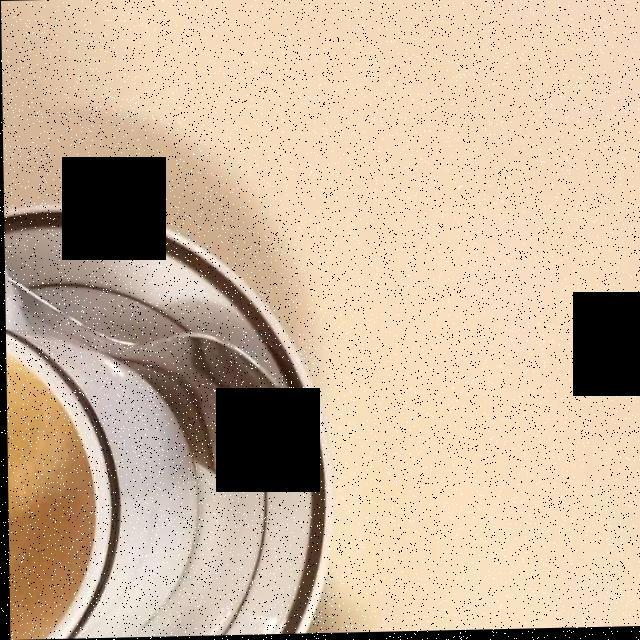coffee: (6, 353, 94, 621)
